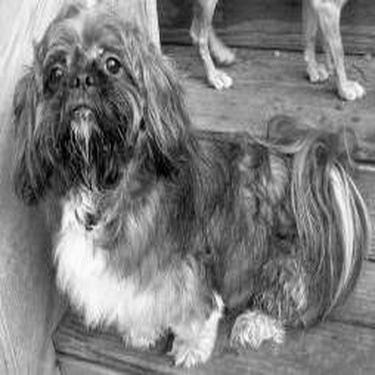dog: (7, 6, 369, 365), (174, 2, 368, 108)
